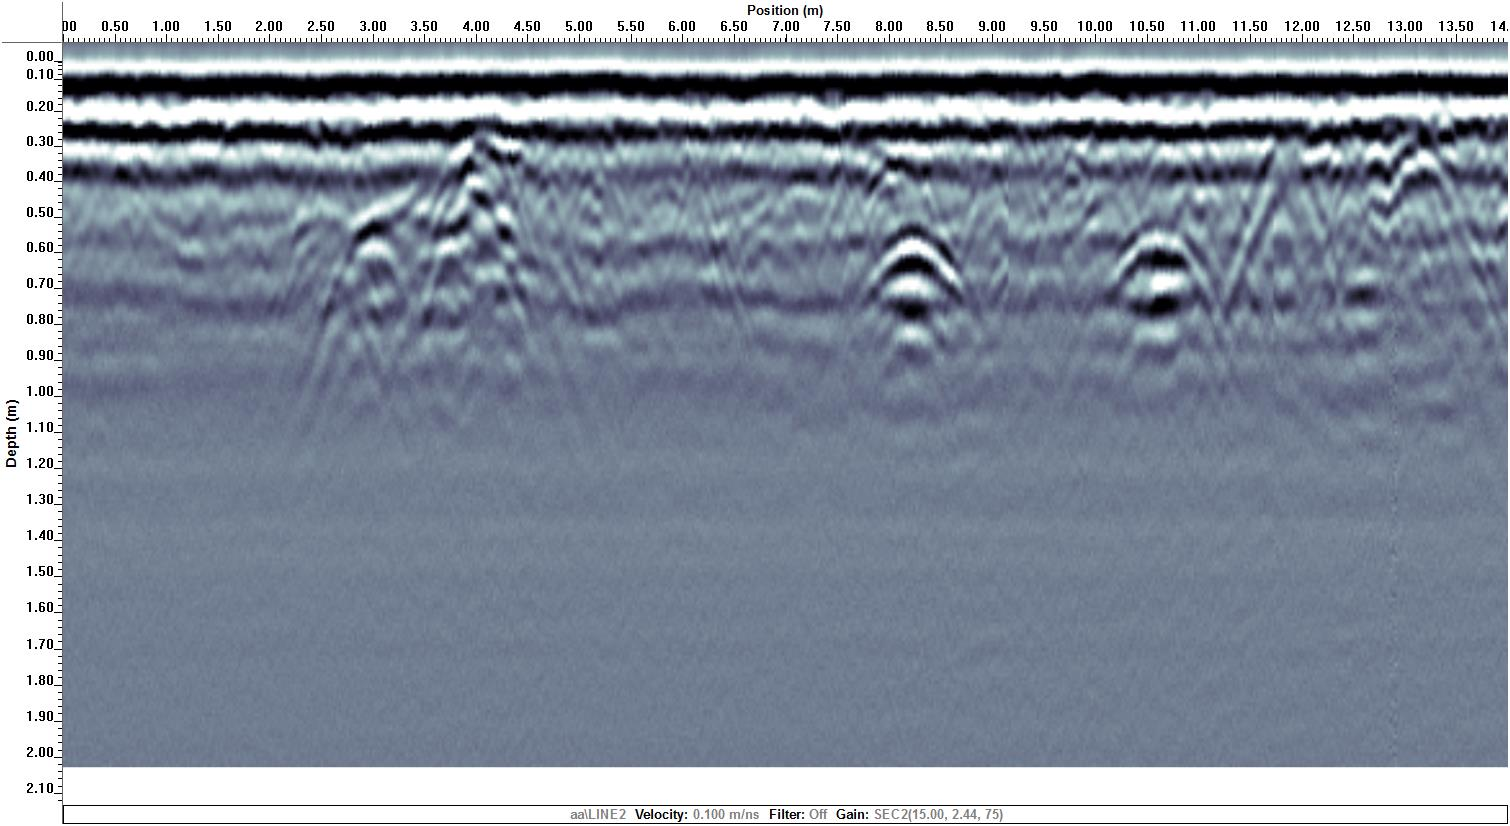hyperbola: (845, 217, 988, 366), (1084, 226, 1224, 373)
